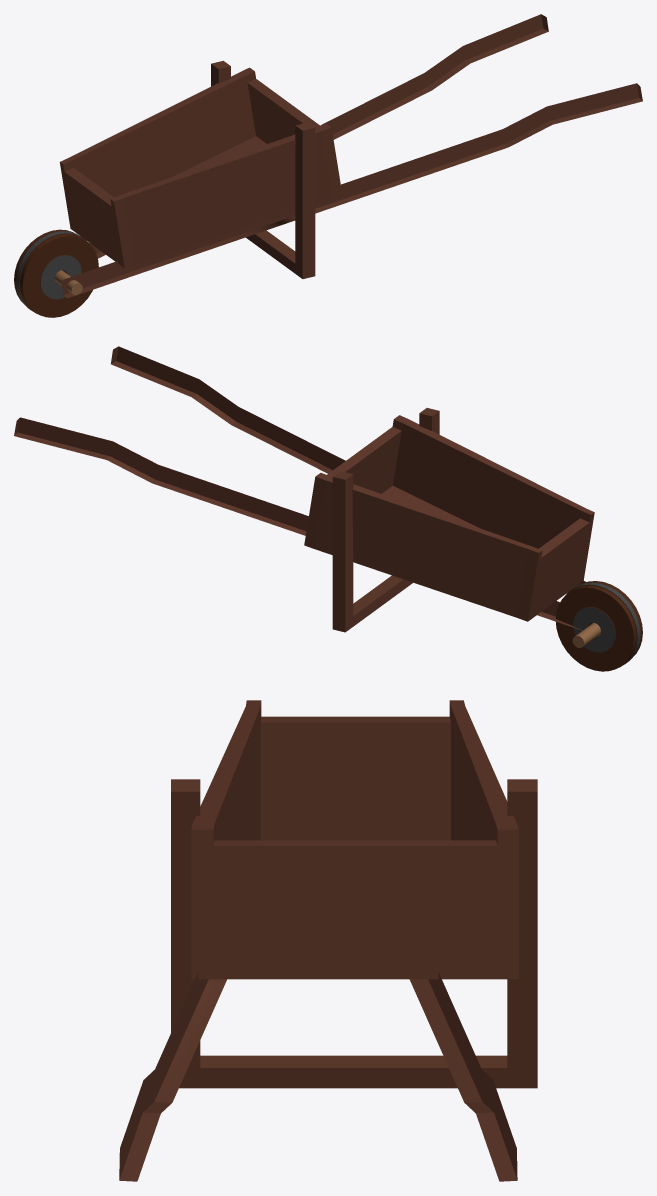
The model's file is Gerobak.fbx.
The picture shows the model from 3 angles, top to bottom: view 1: azimuth 30°, elevation 25°; view 2: azimuth 150°, elevation 25°; view 3: azimuth 270°, elevation 25°; orthographic projection. The views are drawn at different scales.
Parts seen in each view (by area): view 1: Gerobak; view 2: Gerobak; view 3: Gerobak.
Boxes of the visible parts, x1,y1,x2,y2 form: Gerobak: (14,14,642,317); Gerobak: (14,346,642,671); Gerobak: (119,700,537,1181).
Bounding box in the file's own units: 800 × 226 × 255.
